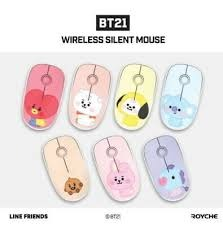mouse: (140, 134, 194, 207), (38, 129, 92, 199), (66, 52, 107, 136), (155, 60, 200, 133), (108, 58, 151, 131), (24, 61, 64, 134), (94, 135, 135, 203)
